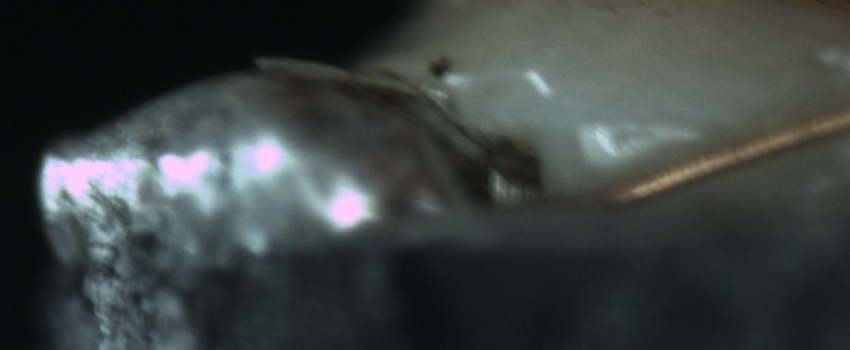DL: (583, 98, 749, 154)
